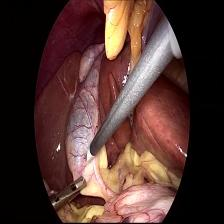Grasper: (48, 176, 91, 209)
Hook: (81, 144, 96, 168)
